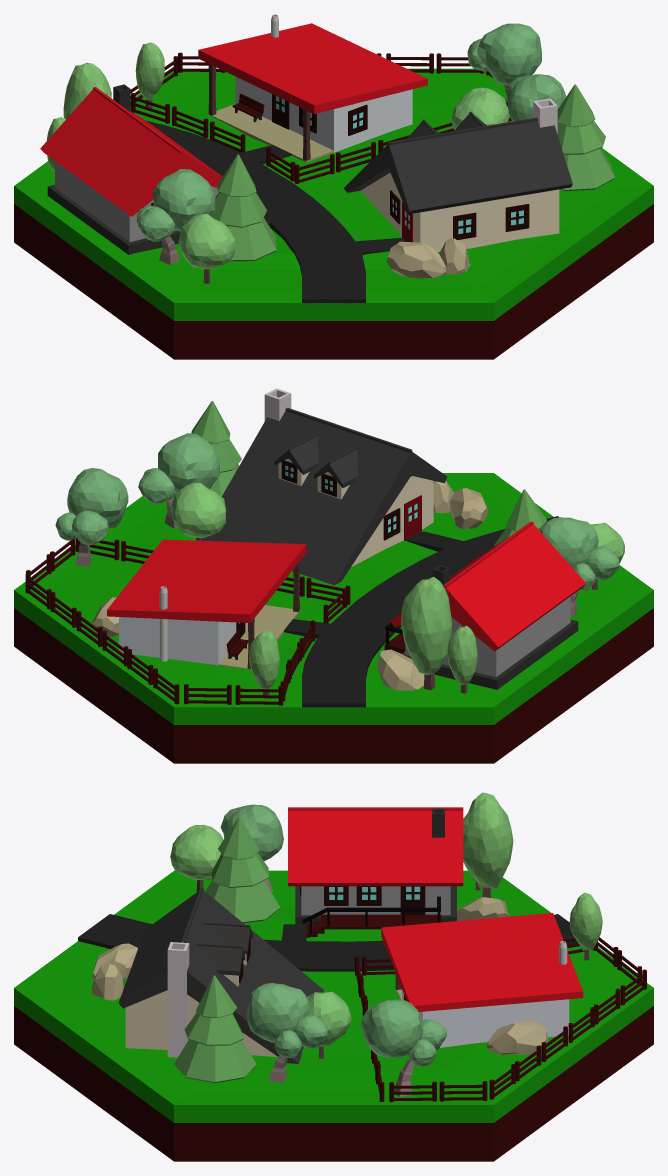
Rendered from Hex_dedinka_001.fbx.
The picture shows the model from 3 angles, top to bottom: view 1: azimuth 30°, elevation 25°; view 2: azimuth 150°, elevation 25°; view 3: azimuth 270°, elevation 25°; orthographic projection.
Parts seen in each view (by area): view 1: Tráva, Hlina, Dom3, Dom1, Dom2, Cesta, Plot, Strom6, Strom4, Strom3, Strom, Strom5 (+6 smaller); view 2: Tráva, Dom3, Hlina, Dom1, Dom2, Cesta, Plot, Strom, Strom7, Strom2, Strom6, Strom1 (+9 smaller); view 3: Tráva, Hlina, Dom2, Dom1, Dom3, Plot, Cesta, Strom3, Strom2, Strom4, Strom, Strom7 (+8 smaller).
Part boxes in pixels (box(x1,y1,x2,y2)): Tráva: box(14, 68, 653, 320); Hlina: box(14, 204, 653, 359); Dom3: box(343, 98, 572, 251); Dom1: box(198, 14, 427, 162); Dom2: box(40, 84, 222, 254); Cesta: box(146, 120, 405, 309); Plot: box(130, 52, 511, 183); Strom6: box(137, 169, 215, 264); Strom4: box(211, 154, 276, 261); Strom3: box(557, 84, 614, 191); Strom: box(467, 23, 541, 102); Strom5: box(178, 214, 235, 283); Tráva: box(14, 473, 653, 724); Dom3: box(201, 388, 447, 585); Hlina: box(14, 608, 653, 763); Dom1: box(107, 539, 306, 669); Dom2: box(384, 521, 585, 689); Cesta: box(284, 516, 558, 707); Plot: box(25, 538, 350, 705); Strom: box(55, 468, 128, 566); Strom7: box(401, 576, 452, 690); Strom2: box(138, 433, 219, 528); Strom6: box(539, 517, 619, 616); Strom1: box(171, 482, 226, 540); Tráva: box(14, 870, 653, 1122); Hlina: box(14, 1006, 653, 1161); Dom2: box(288, 807, 463, 937); Dom1: box(381, 913, 583, 1047); Dom3: box(119, 888, 323, 1063); Plot: box(355, 937, 646, 1102); Cesta: box(78, 914, 577, 971); Strom3: box(173, 975, 256, 1083); Strom2: box(247, 983, 327, 1082); Strom4: box(205, 817, 280, 923); Strom: box(361, 999, 447, 1096); Strom7: box(463, 792, 513, 897).
Size of the model in its own units: 2599 by 864 by 3000.
